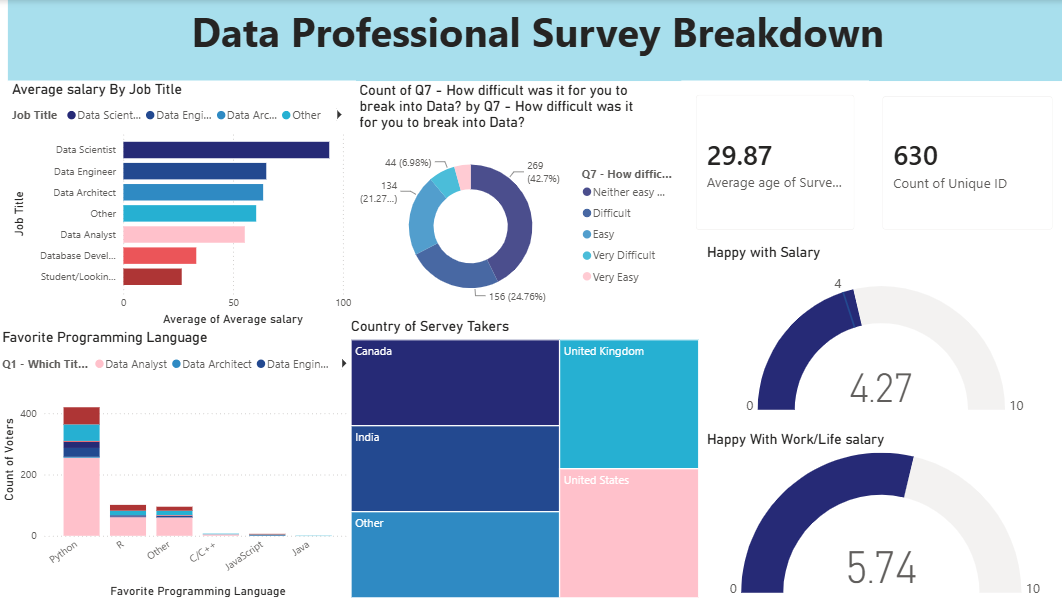

This screenshot's page, from the dashboard's own definition file:
{"tool":"powerbi","page":{"name":"Page 1","canvas":[1280,720],"ordinal":0},"visuals":[{"type":"textbox","box":[11.7,0,1268.3,96.7],"z":0},{"type":"cardVisual","fields":{"Data":["CountNonNull(Data Professional Survey.Unique ID)"]},"box":[1042,98,238,194],"z":1000},{"type":"cardVisual","fields":{"Data":["Avg(Data Professional Survey.Q10 - Current Age)"]},"box":[818,96,224,196],"z":2000},{"type":"barChart","title":"Average  salary  By Job Title","fields":{"Category":["Data Professional Survey.Q1 - Which Title Best Fits your Current Role?.1"],"Y":["Avg(Data Professional Survey.Average salary)"],"Series":["Data Professional Survey.Q1 - Which Title Best Fits your Current Role?.1"]},"box":[12,96,416,298],"z":3000},{"type":"columnChart","title":" Favorite Programming Language","fields":{"Category":["Data Professional Survey.Q5 - Favorite Programming Language.1"],"Y":["CountNonNull(Data Professional Survey.Unique ID)"],"Series":["Data Professional Survey.Q1 - Which Title Best Fits your Current Role?.1"]},"box":[0,394,428,326],"z":4000},{"type":"treemap","title":"Country of Servey Takers","fields":{"Group":["Data Professional Survey.Q11 - Which Country do you live in?.1"],"Values":["Count(Data Professional Survey.Q11 - Which Country do you live in?.1)"]},"box":[418,380,426,340],"z":4001},{"type":"gauge","title":"Happy With Work/Life salary","fields":{"Y":["Avg(Data Professional Survey.Q6 - How Happy are you in your Current Position with the following? (Work/Life Balance))"],"MinValue":["Min(Data Professional Survey.Q6 - How Happy are you in your Current Position with the following? (Work/Life Balance))1"],"MaxValue":["Max(Data Professional Survey.Q6 - How Happy are you in your Current Position with the following? (Work/Life Balance))2"]},"box":[844,516,436,204],"z":4002},{"type":"gauge","title":"Happy with Salary","fields":{"MinValue":["Min(Data Professional Survey.Q6 - How Happy are you in your Current Position with the following? (Salary))"],"MaxValue":["Max(Data Professional Survey.Q6 - How Happy are you in your Current Position with the following? (Salary))"],"TargetValue":["Median(Data Professional Survey.Q6 - How Happy are you in your Current Position with the following? (Salary))"],"Y":["Avg(Data Professional Survey.Q6 - How Happy are you in your Current Position with the following? (Salary))"]},"box":[844,292,436,208],"z":4003},{"type":"donutChart","fields":{"Category":["Data Professional Survey.Q7 - How difficult was it for you to break into Data?"],"Y":["CountNonNull(Data Professional Survey.Q7 - How difficult was it for you to break into Data?)"]},"box":[428,98,390,282],"z":4004}]}

Visuals, with their boxes in screenshot pixels (x1, y1, x2, y2), scaled from the page's 1280x720 canvas onto the 1062x600 screenshot:
textbox: box=[10, 0, 1061, 81]
cardVisual - CountNonNull(Data Professional Survey.Unique ID): box=[865, 82, 1061, 243]
cardVisual - Avg(Data Professional Survey.Q10 - Current Age): box=[679, 80, 865, 243]
"Average  salary  By Job Title" barChart: box=[10, 80, 355, 328]
" Favorite Programming Language" columnChart: box=[0, 328, 355, 599]
"Country of Servey Takers" treemap: box=[347, 317, 700, 599]
"Happy With Work/Life salary" gauge: box=[700, 430, 1061, 599]
"Happy with Salary" gauge: box=[700, 243, 1061, 417]
donutChart - Data Professional Survey.Q7 - How difficult was it for you to break into Data? x CountNonNull(Data Professional Survey.Q7 - How difficult was it for you to break into Data?): box=[355, 82, 679, 317]
